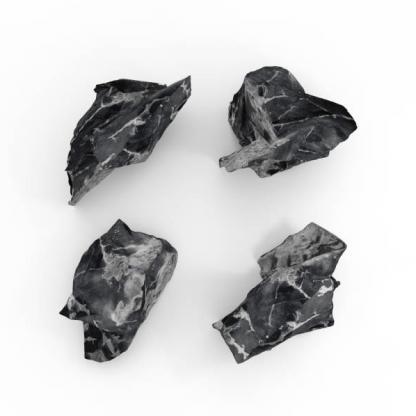Metamorphic_Marble: (32, 50, 194, 206), (205, 217, 358, 364), (41, 216, 192, 362), (215, 53, 360, 180)
